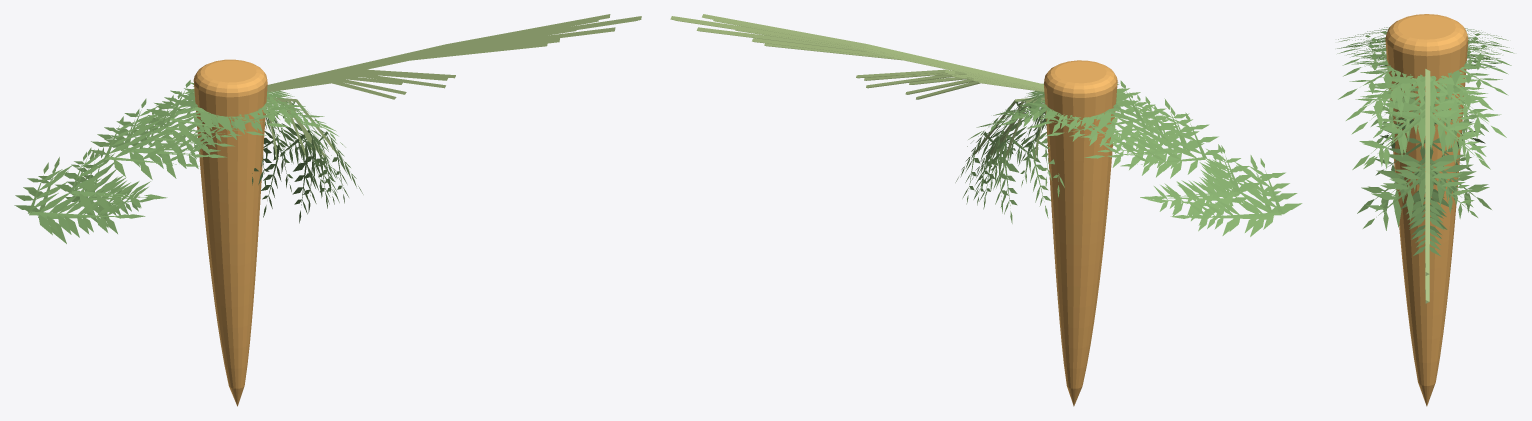
File: carrot_harvest_v19.articulated.glb
3 views of the same model, side by side, from view 1: azimuth 30°, elevation 25°; view 2: azimuth 150°, elevation 25°; view 3: azimuth 270°, elevation 25° (orthographic). The views are drawn at different scales.
Visible parts, largest first — view 1: root, leaf04_link2, leaf07_link2, leaf05_link2, leaf00_link2, leaf03_link2, leaf04_link0, leaf01_link2, leaf02_link2, leaf06_link2, leaf05_link0, leaf01_link0 (+2 smaller); view 2: root, leaf04_link2, leaf07_link2, leaf05_link2, leaf03_link2, leaf00_link2, leaf01_link2, leaf01_link0, leaf02_link2, leaf06_link2, leaf05_link0, leaf04_link0 (+1 smaller); view 3: root, leaf04_link2, leaf05_link2, leaf07_link2, leaf06_link2, leaf02_link2, leaf03_link2, leaf01_link0, leaf00_link2, leaf01_link2.
Boxes of the visible parts, x1,y1,x2,y2 form: root: [193, 59, 267, 406]; leaf04_link2: [14, 80, 339, 235]; leaf07_link2: [25, 86, 338, 237]; leaf05_link2: [28, 82, 363, 243]; leaf00_link2: [55, 98, 310, 215]; leaf03_link2: [67, 92, 304, 217]; leaf04_link0: [267, 16, 641, 89]; leaf01_link2: [63, 91, 292, 212]; leaf02_link2: [65, 95, 335, 222]; leaf06_link2: [72, 99, 343, 220]; leaf05_link0: [267, 27, 615, 90]; leaf01_link0: [268, 14, 610, 84]; root: [1044, 60, 1117, 406]; leaf04_link2: [968, 80, 1302, 232]; leaf07_link2: [984, 82, 1283, 236]; leaf05_link2: [955, 83, 1290, 235]; leaf03_link2: [1001, 92, 1243, 218]; leaf00_link2: [1004, 96, 1260, 209]; leaf01_link2: [1012, 92, 1246, 214]; leaf01_link0: [702, 14, 1043, 88]; leaf02_link2: [976, 94, 1246, 220]; leaf06_link2: [971, 100, 1234, 225]; leaf05_link0: [696, 27, 1043, 89]; leaf04_link0: [670, 16, 1027, 85]; root: [1385, 14, 1468, 406]; leaf04_link2: [1338, 27, 1511, 235]; leaf05_link2: [1337, 38, 1509, 256]; leaf07_link2: [1337, 37, 1514, 245]; leaf06_link2: [1367, 49, 1501, 249]; leaf02_link2: [1363, 46, 1500, 251]; leaf03_link2: [1362, 47, 1494, 210]; leaf01_link0: [1425, 69, 1430, 275]; leaf00_link2: [1350, 38, 1492, 152]; leaf01_link2: [1346, 44, 1501, 143].
Size of the model in its own units: 0.3499 by 0.1839 by 0.0828.
1 material, 1 textured.
